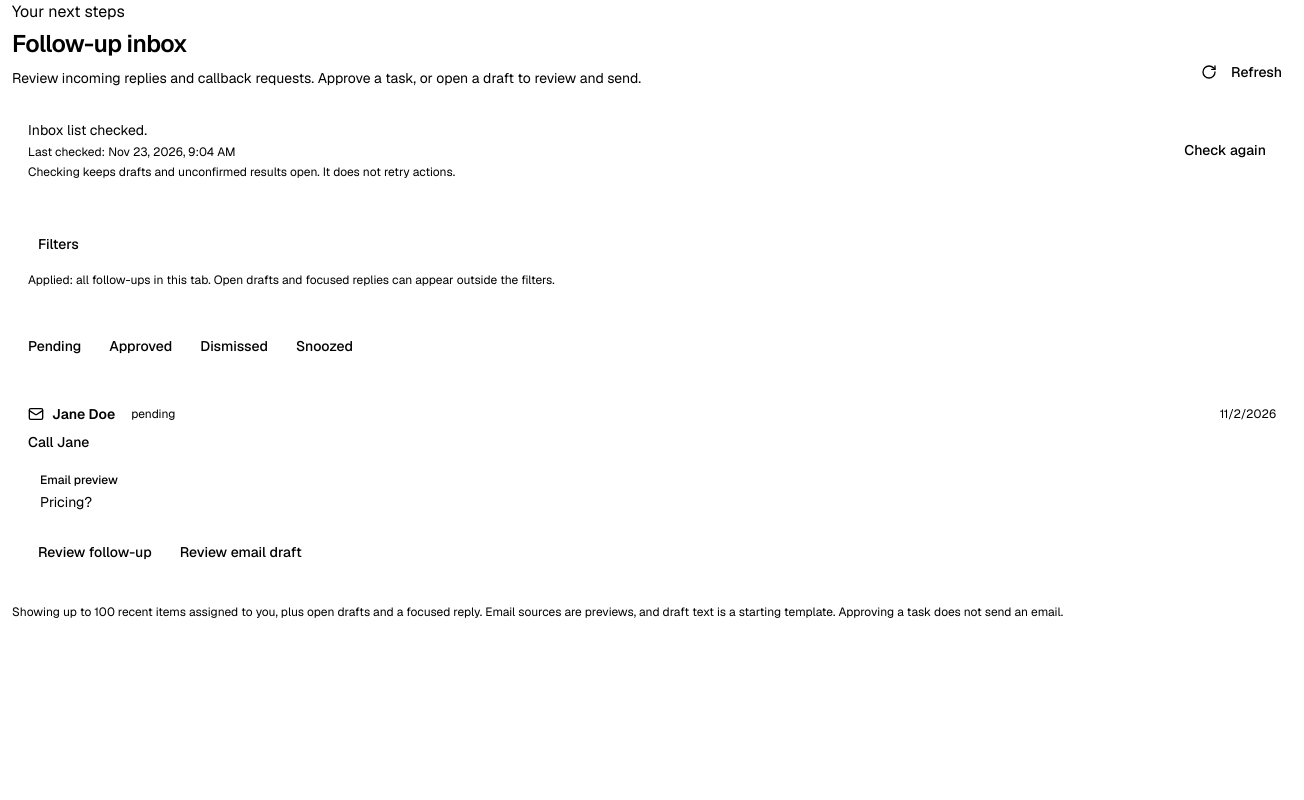
Test: conversation follow-up drafts › does not reopen a draft when generation finishes after dismissal
Click the button "Review follow-up" at (95, 552), box x1=28 y1=536 x2=162 y2=568
(page scrolled)
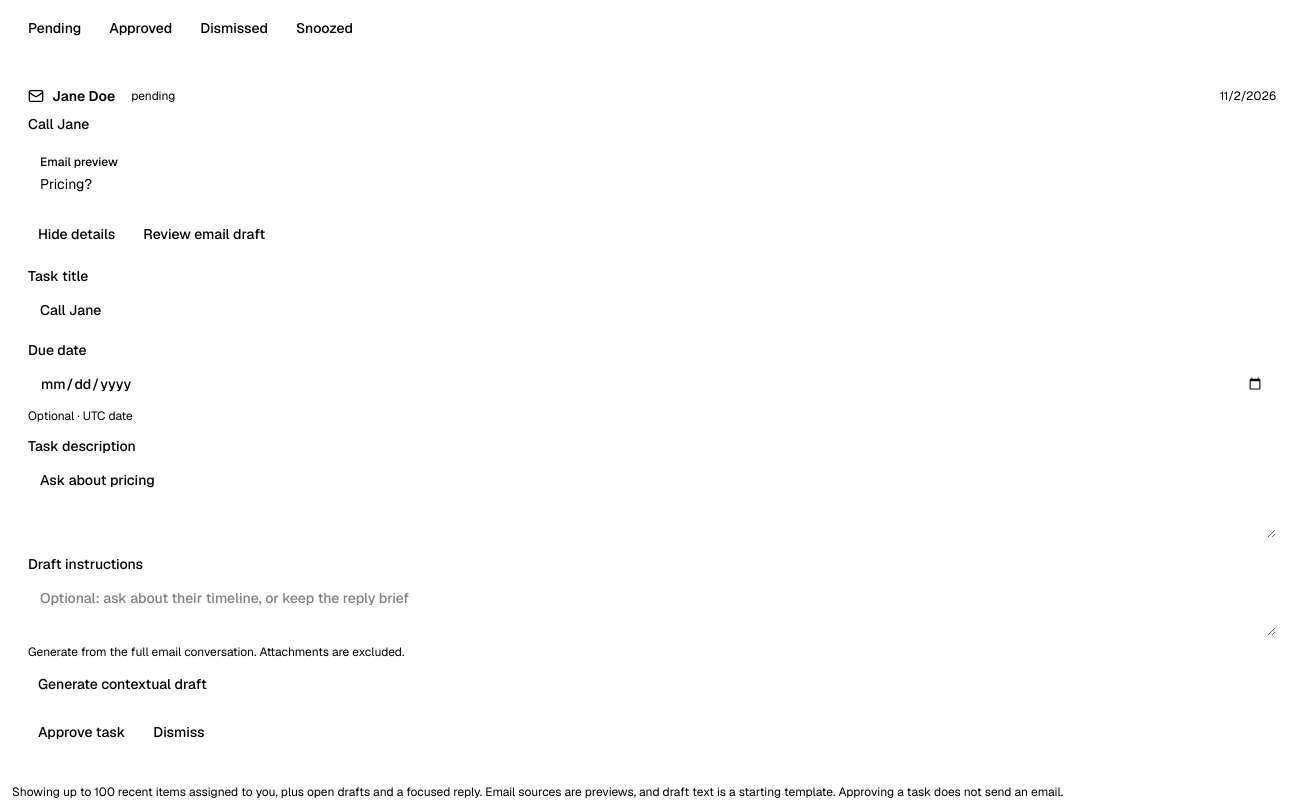
Click the button "Generate contextual draft" at (122, 684), box x1=28 y1=668 x2=217 y2=700
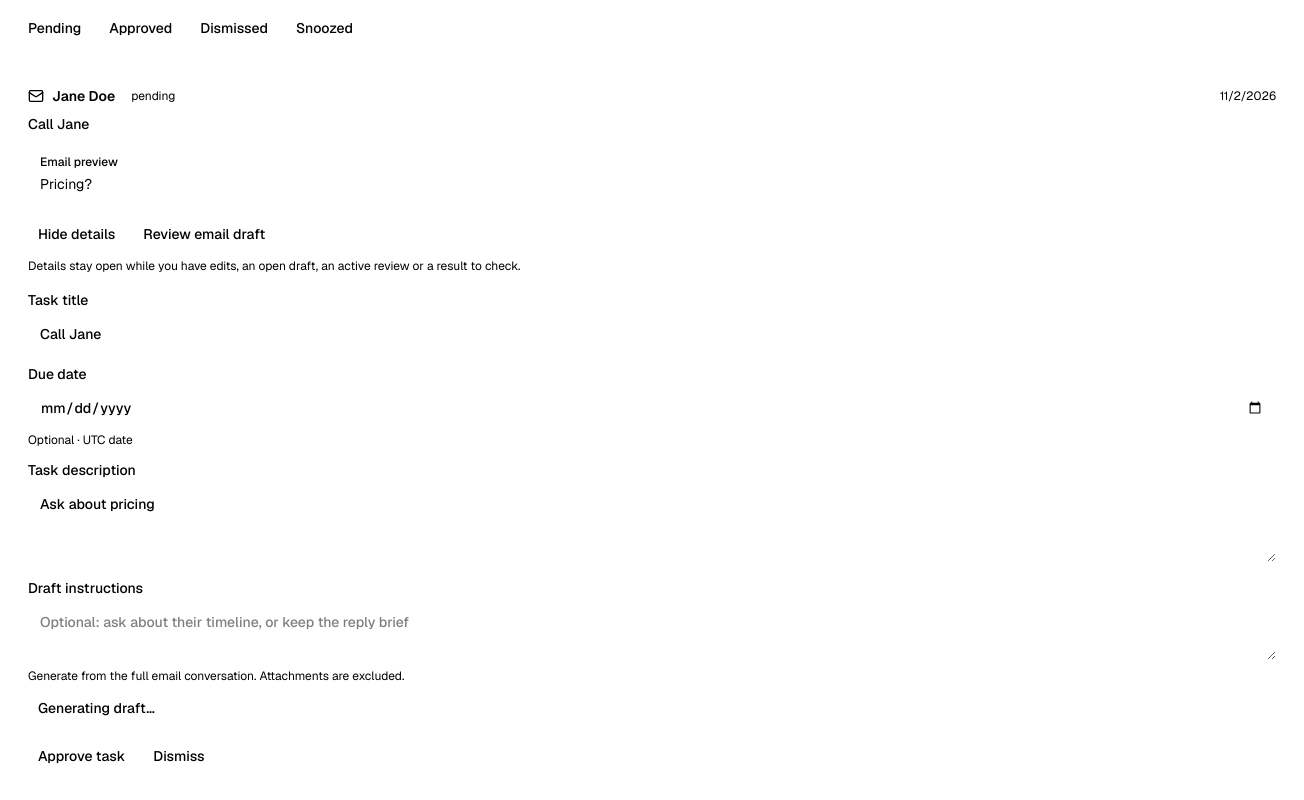
Click the button "Dismiss" at (179, 756), box x1=143 y1=740 x2=215 y2=772
(page scrolled)
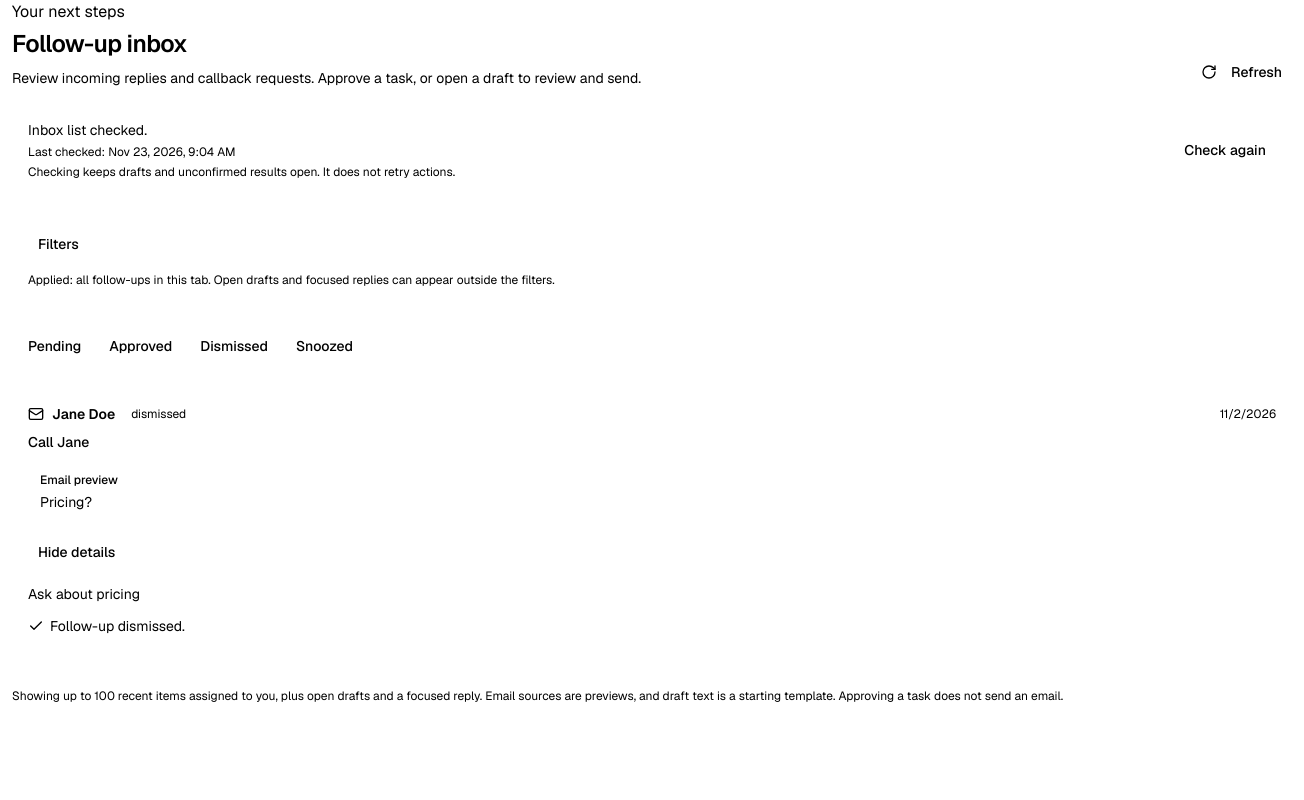
Expected: the text "Follow-up dismissed." is shown, x1=28 y1=617 x2=185 y2=635
Expected: the button "Review email draft" is gone
